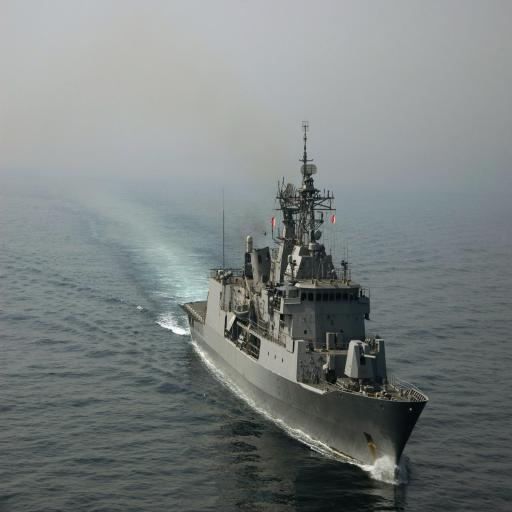Fragata: (24, 88, 278, 484)
